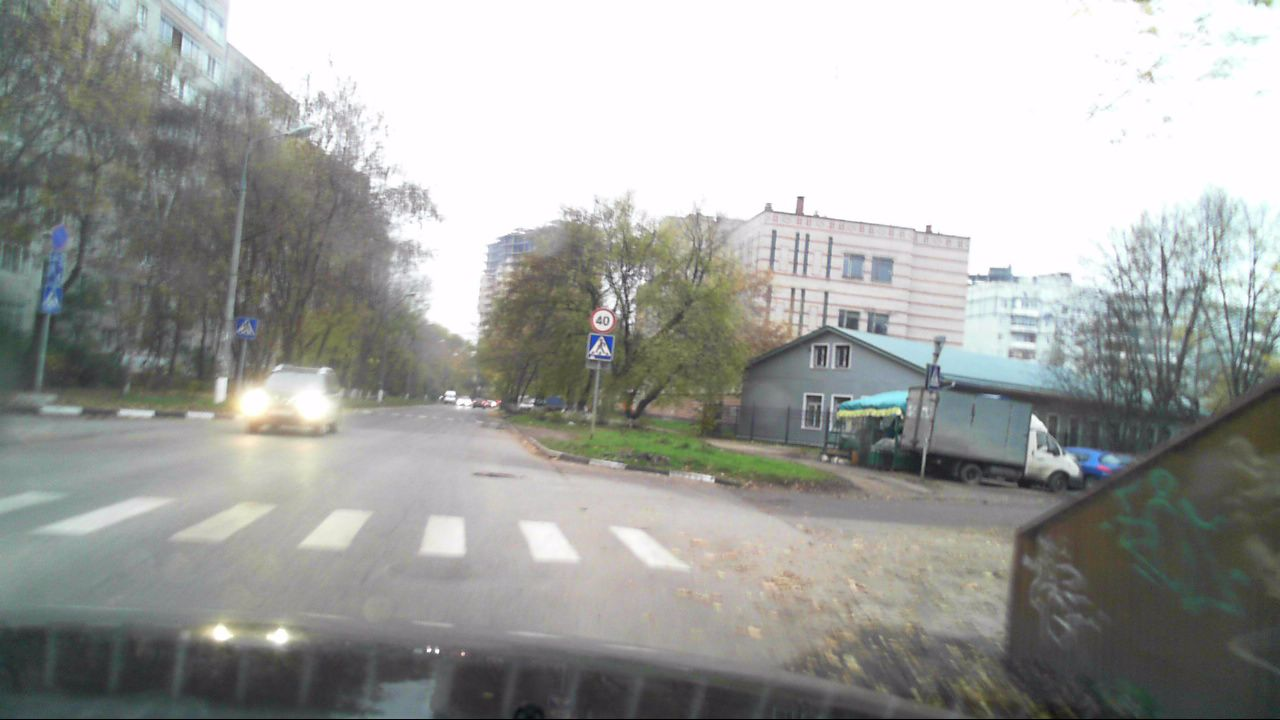speed_warning_40: (591, 307, 614, 331)
